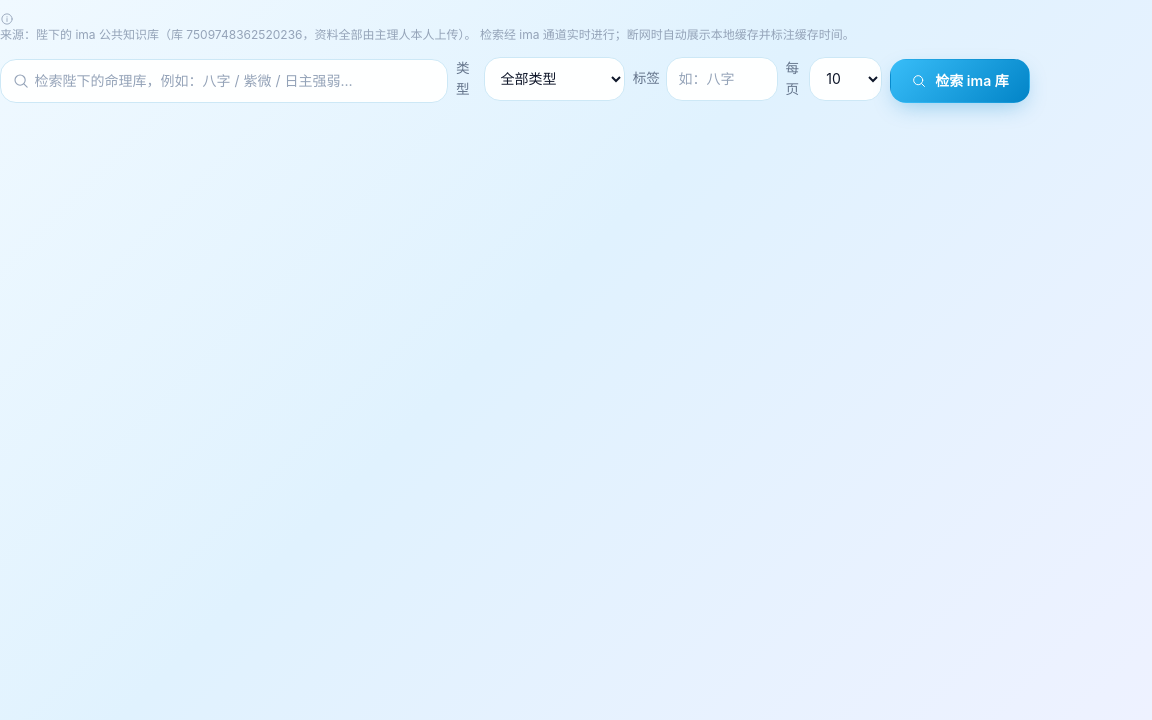
Test case: ImaPanel › 搜索「八字」展示命中与 src: 出处，并可展开原文
Type "八字" into the field named "ima 检索词" at (224, 81), box [0, 59, 448, 103]
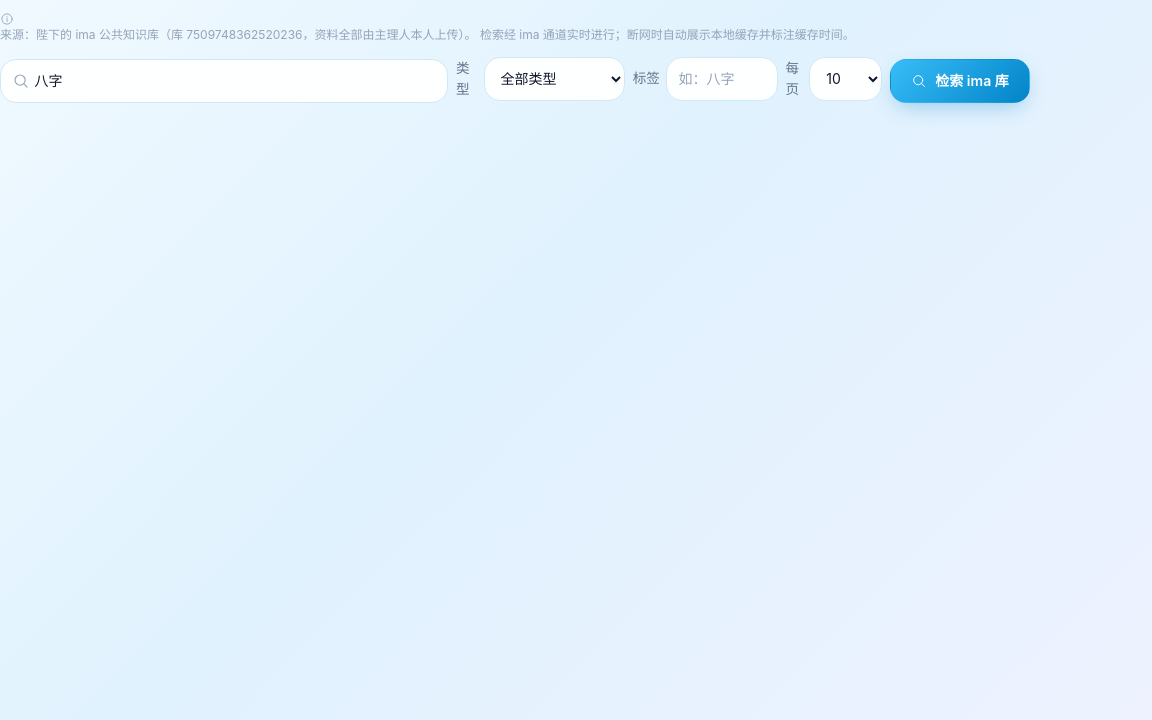
Click the button with test id "ima-search-btn" at (960, 81), box [890, 59, 1030, 103]
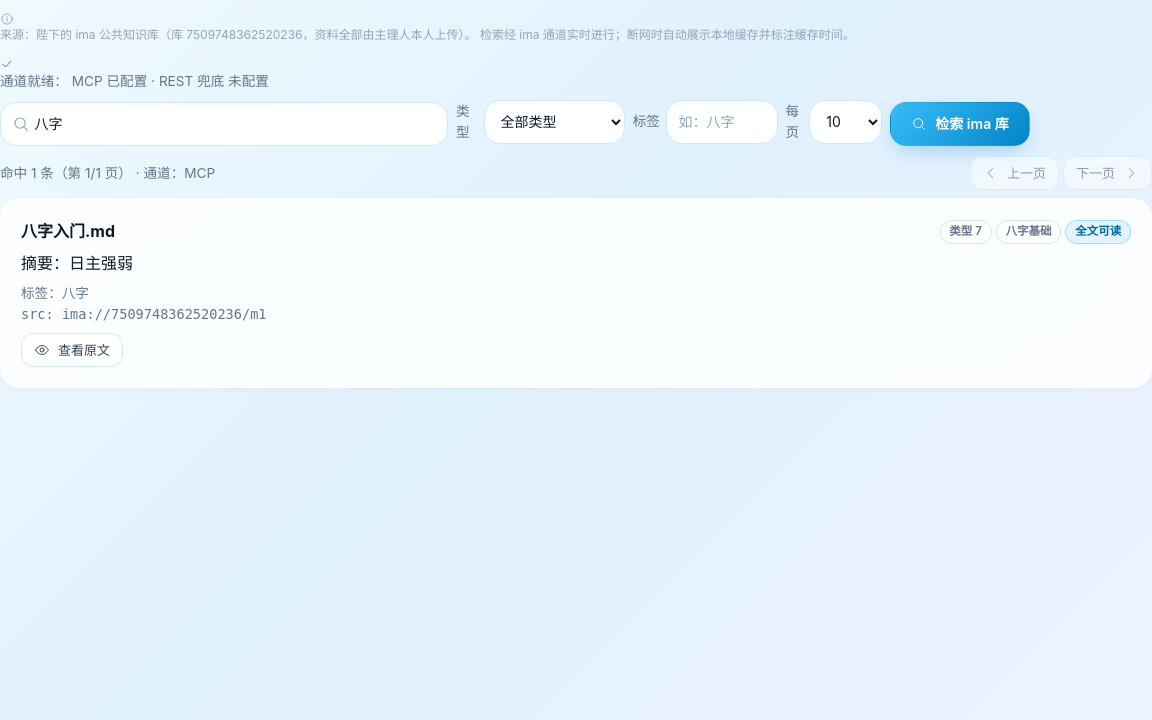
Check: the element with test id "ima-hit-m1" is shown, box [0, 198, 1151, 388]
Click the button with test id "ima-open-m1" at (72, 350), box [21, 333, 123, 367]
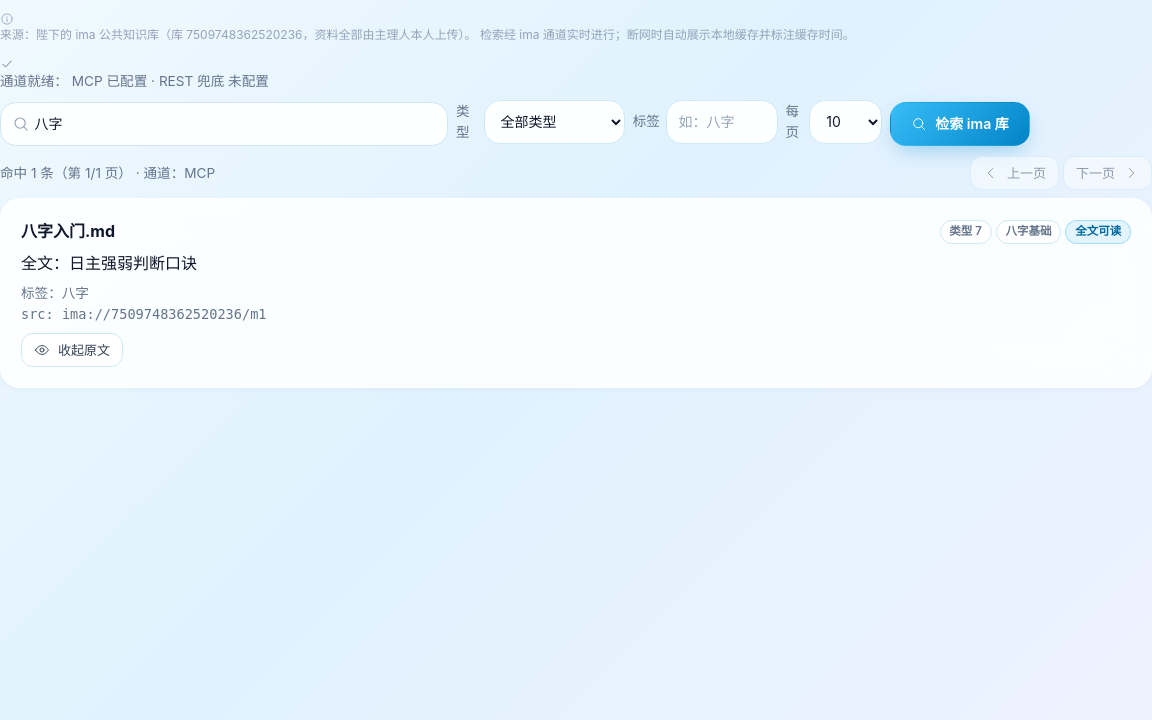
Check: the text "全文：日主强弱判断口诀" is shown, box [21, 253, 197, 273]
